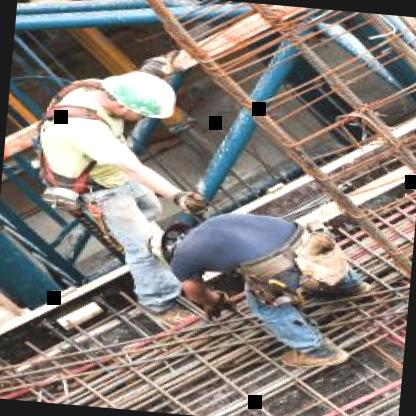helmet: (87, 66, 194, 135), (142, 216, 198, 269)
